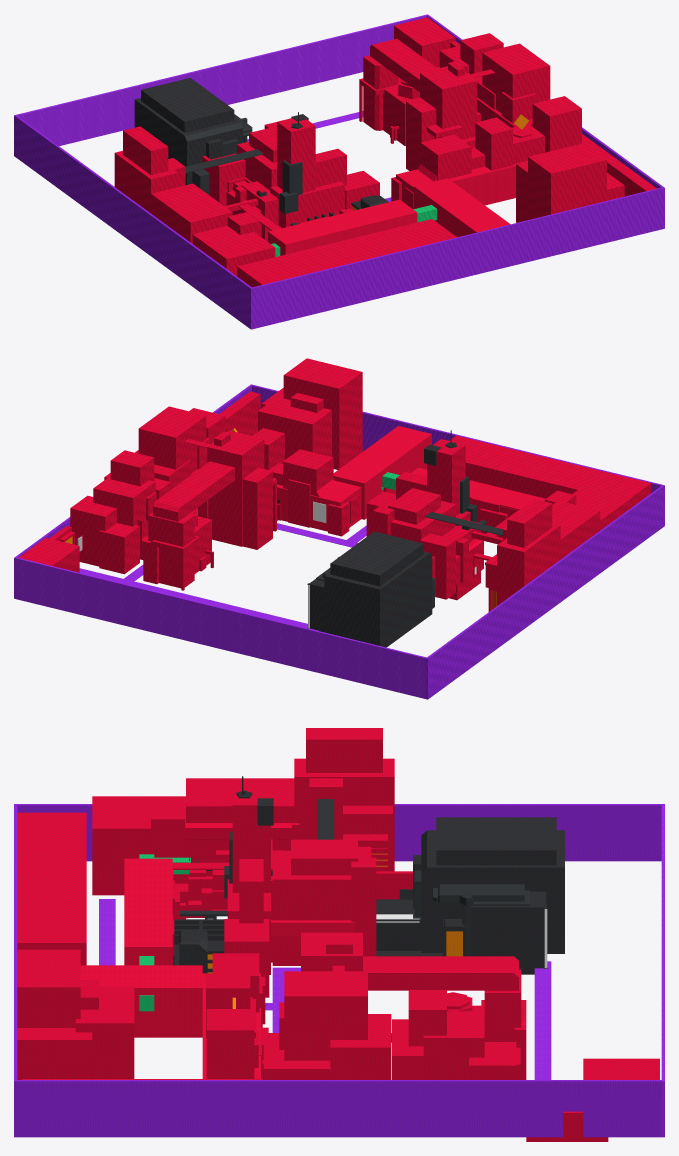
The model's file is Orange.glb.
3 views of the same model, one above another, from view 1: azimuth 30°, elevation 25°; view 2: azimuth 150°, elevation 25°; view 3: azimuth 270°, elevation 25° (orthographic). The views are drawn at different scales.
Visible parts, largest first — view 1: _MeshInstance3D_49597, _MeshInstance3D_49609, _MeshInstance3D_49615, _MeshInstance3D_50191, _MeshInstance3D_50257, _MeshInstance3D_50185, _MeshInstance3D_50353, _MeshInstance3D_51595, _MeshInstance3D_50347, _MeshInstance3D_50179, _MeshInstance3D_49717, _MeshInstance3D_50233 (+30 smaller); view 2: _MeshInstance3D_49609, _MeshInstance3D_49615, _MeshInstance3D_49717, _MeshInstance3D_50191, _MeshInstance3D_50257, _MeshInstance3D_50179, _MeshInstance3D_50347, _MeshInstance3D_51595, _MeshInstance3D_50353, _MeshInstance3D_50263, _MeshInstance3D_50245, _MeshInstance3D_51649 (+35 smaller); view 3: _MeshInstance3D_49603, _MeshInstance3D_49615, _MeshInstance3D_50191, _MeshInstance3D_49717, _MeshInstance3D_51595, _MeshInstance3D_50221, _MeshInstance3D_50353, _MeshInstance3D_50179, _MeshInstance3D_51649, _MeshInstance3D_50185, _MeshInstance3D_50215, _MeshInstance3D_50257 (+38 smaller).
Part boxes in pixels (x1,y1,x2,y2): _MeshInstance3D_49597: (250,187,664,329); _MeshInstance3D_49609: (16,14,428,146); _MeshInstance3D_49615: (14,115,251,328); _MeshInstance3D_50191: (237,219,456,287); _MeshInstance3D_50257: (528,143,606,219); _MeshInstance3D_50185: (268,199,417,255); _MeshInstance3D_50353: (141,78,234,132); _MeshInstance3D_51595: (482,43,550,113); _MeshInstance3D_50347: (420,66,477,139); _MeshInstance3D_50179: (414,178,510,237); _MeshInstance3D_49717: (134,98,242,184); _MeshInstance3D_50233: (151,183,232,243); _MeshInstance3D_49609: (14,557,426,698); _MeshInstance3D_49615: (425,485,663,699); _MeshInstance3D_49717: (324,551,432,647); _MeshInstance3D_50191: (449,435,650,506); _MeshInstance3D_50257: (283,358,362,469); _MeshInstance3D_50179: (333,426,431,519); _MeshInstance3D_50347: (207,430,264,546); _MeshInstance3D_51595: (138,406,206,472); _MeshInstance3D_50353: (330,531,423,586); _MeshInstance3D_50263: (258,395,331,459); _MeshInstance3D_50245: (497,523,560,605); _MeshInstance3D_51649: (153,461,234,521); _MeshInstance3D_49603: (15,1080,661,1137); _MeshInstance3D_49615: (17,804,664,861); _MeshInstance3D_50191: (17,812,86,965); _MeshInstance3D_49717: (421,830,564,953); _MeshInstance3D_51595: (284,971,367,1060); _MeshInstance3D_50221: (92,796,185,895); _MeshInstance3D_50353: (436,817,556,865); _MeshInstance3D_50179: (80,965,202,1037); _MeshInstance3D_51649: (363,956,518,990); _MeshInstance3D_50185: (124,858,172,965); _MeshInstance3D_50215: (272,850,367,965); _MeshInstance3D_50257: (17,949,80,1027).
Size of the model in its own units: 395 by 130 by 390.
Materials: 19 (18 with a texture image).
